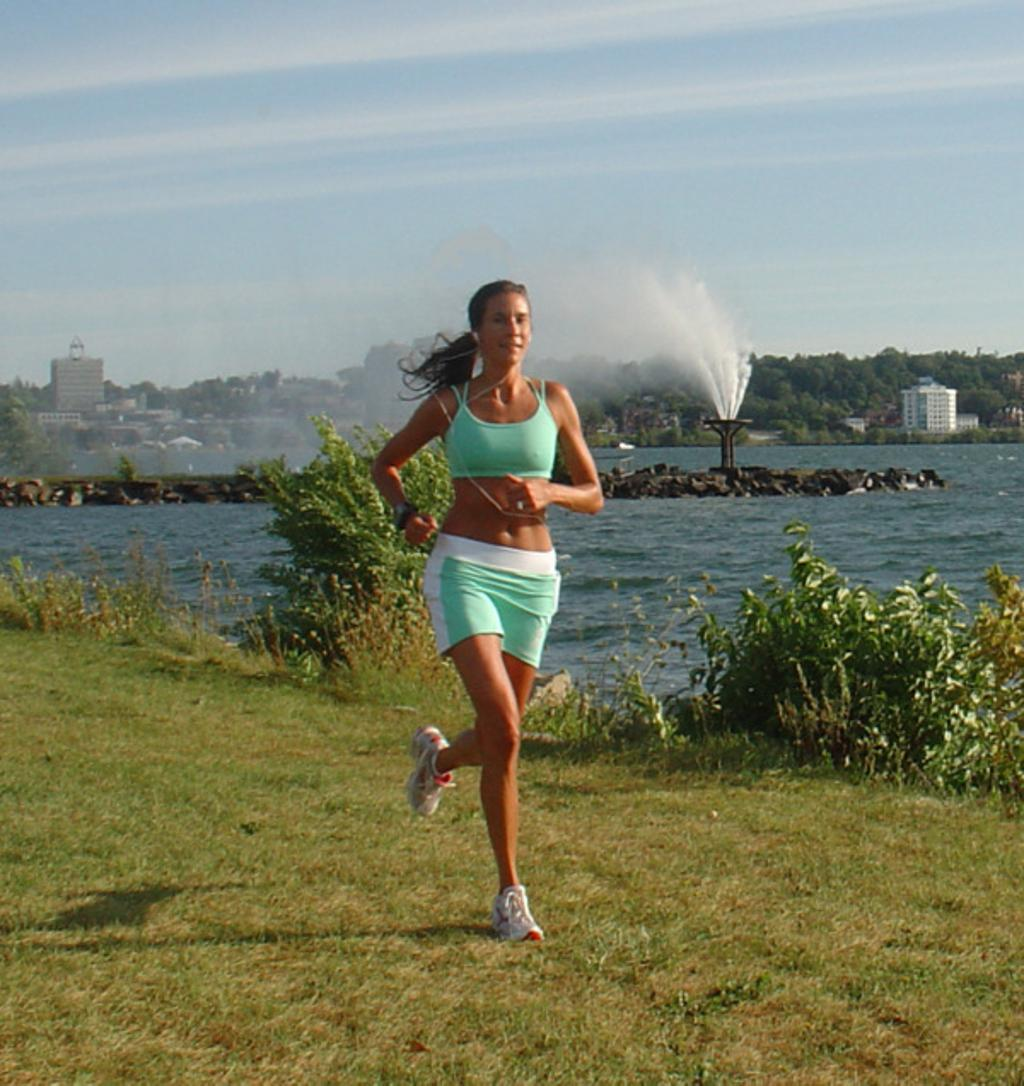face: (482, 293, 530, 363)
